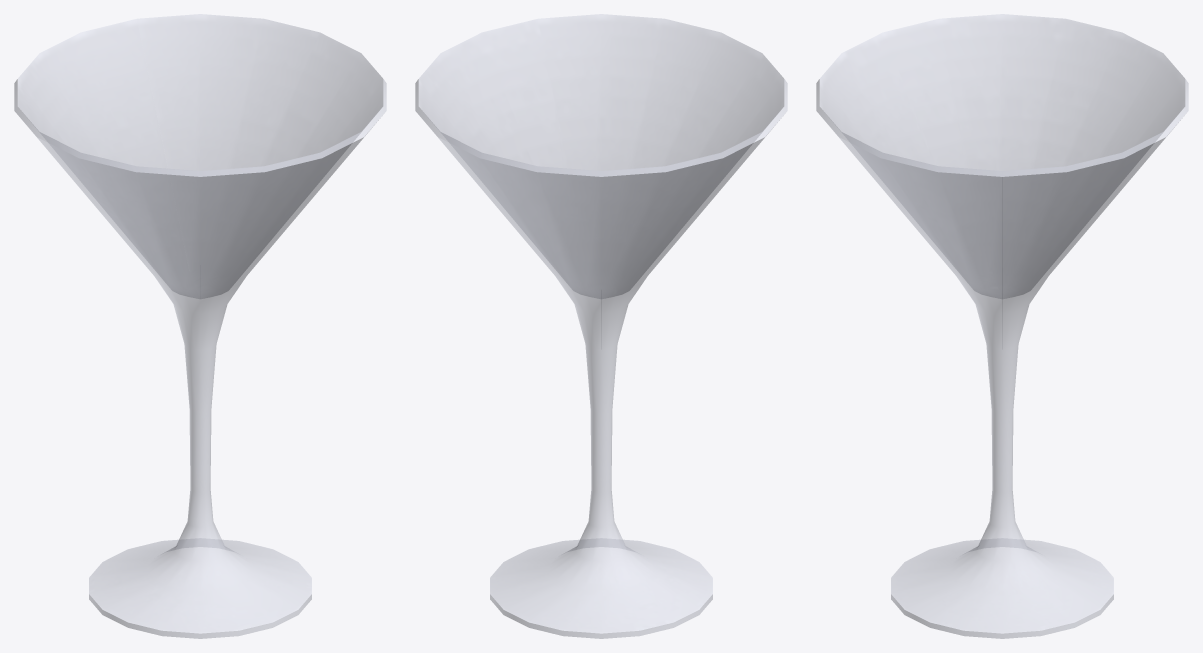
File: SM_Martini_Glass_01.glb
The picture shows the model from 3 angles, left to right: view 1: azimuth 30°, elevation 25°; view 2: azimuth 150°, elevation 25°; view 3: azimuth 270°, elevation 25°; orthographic projection.
Parts seen in each view (by area): view 1: SM_Martini_Glass_01; view 2: SM_Martini_Glass_01; view 3: SM_Martini_Glass_01.
Boxes of the visible parts, box(x1,y1,x2,y2) form: SM_Martini_Glass_01: box(14, 14, 386, 638); SM_Martini_Glass_01: box(415, 14, 787, 638); SM_Martini_Glass_01: box(816, 14, 1188, 638).
Bounding box in the file's own units: 0.1226 × 0.1785 × 0.1208.
Materials: 1 (1 with a texture image).
